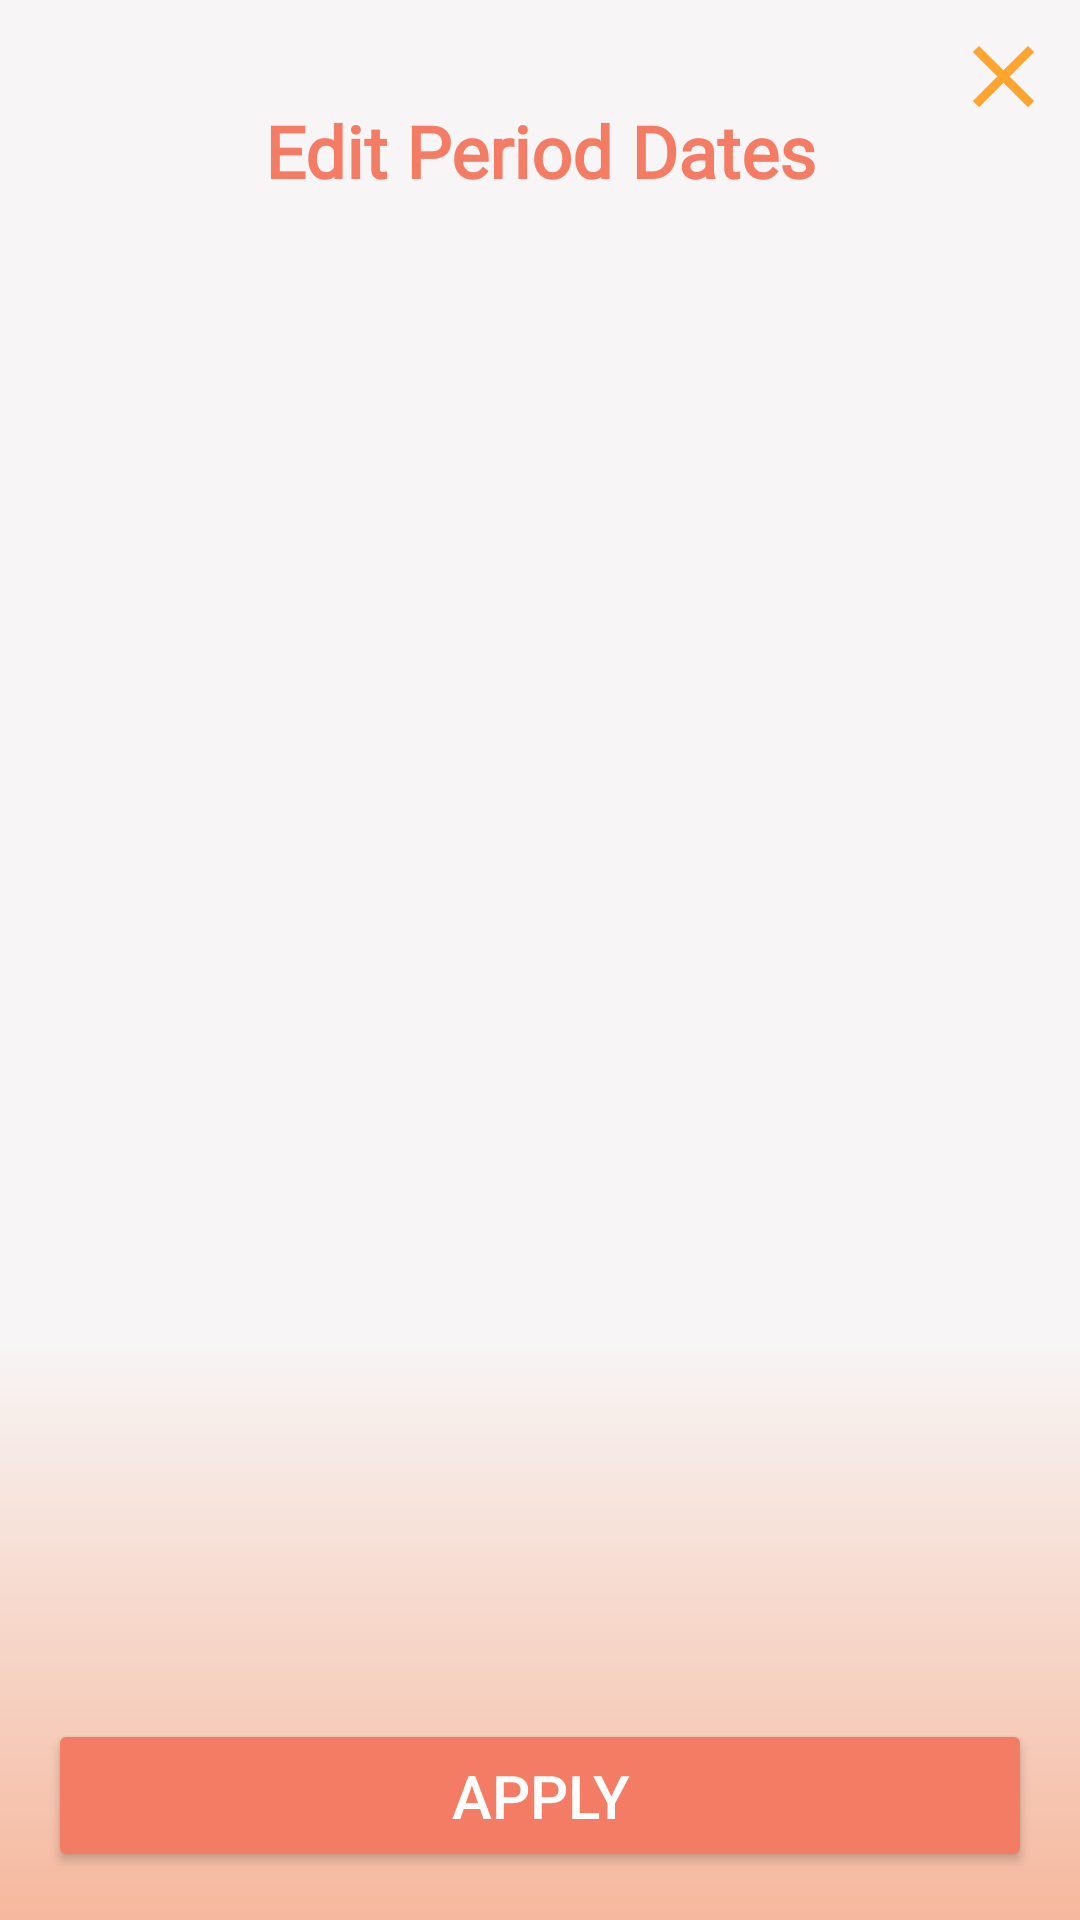

Named icons in this screenshot (1080w x 1920h) and their bounding boxes, (x1, y1, x2, y2):
Close: (973, 46, 1034, 107)
